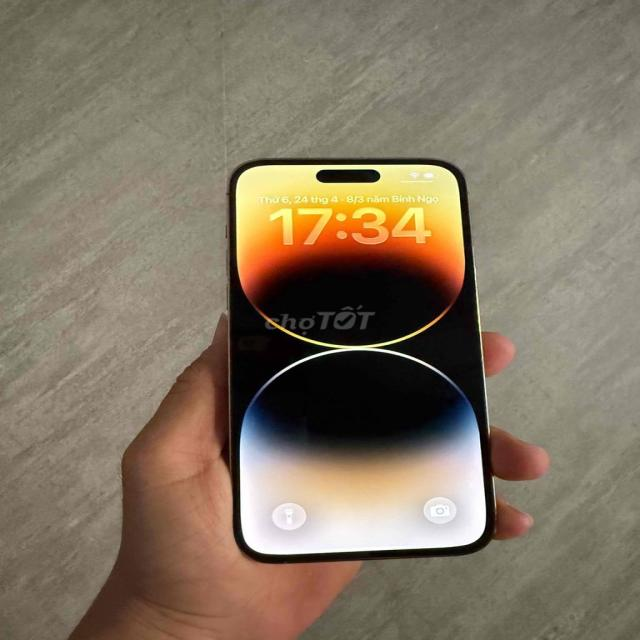gen_14: (202, 149, 506, 577)
